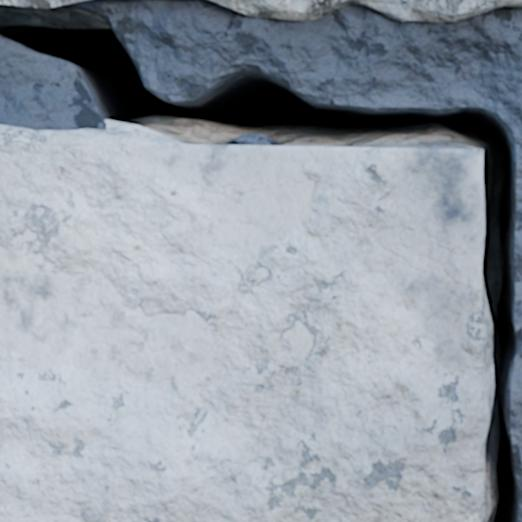brick: (0, 125, 491, 521), (212, 0, 521, 22), (0, 0, 82, 6)
crack: (0, 2, 521, 521)
